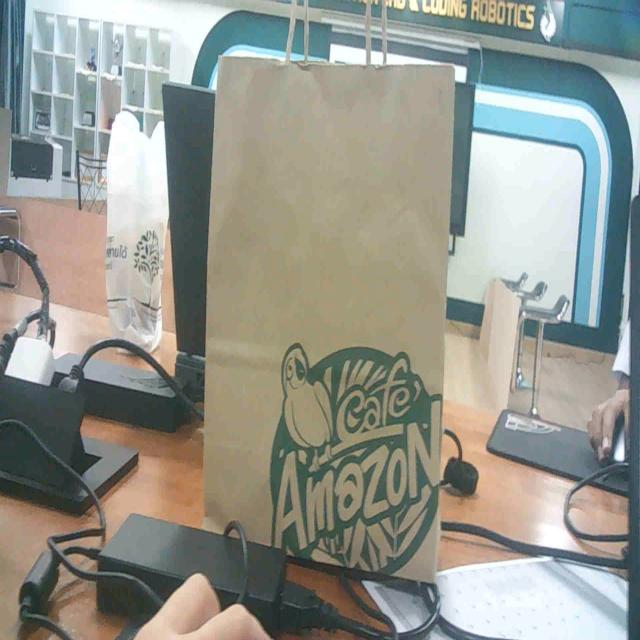bag: (192, 41, 468, 596)
